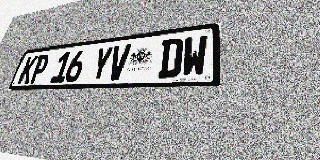1: (50, 51, 73, 83)
6: (64, 49, 87, 82)
D: (157, 37, 184, 78)
K: (17, 55, 39, 84)
P: (28, 54, 51, 84)
V: (106, 44, 131, 80)
W: (181, 34, 208, 77)
Y: (89, 46, 114, 81)
